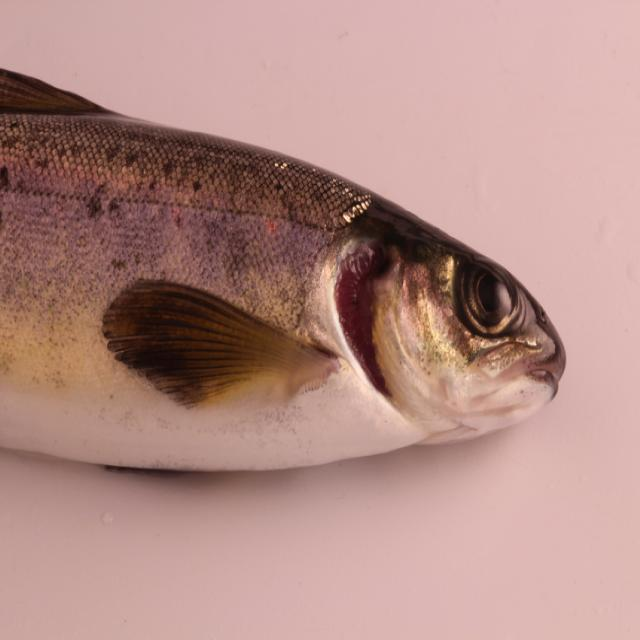Gill Disease: (250, 140, 591, 490)
